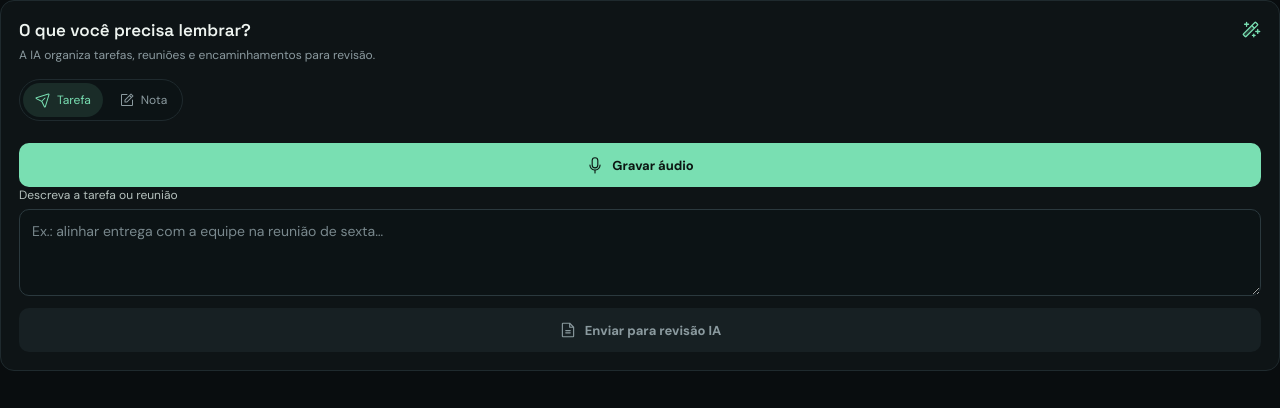
it: TodayCapture audio › não oferece gravação IA no modo Nota privada
Click the button "Nota": (143, 100) x1=107 y1=83 x2=179 y2=117
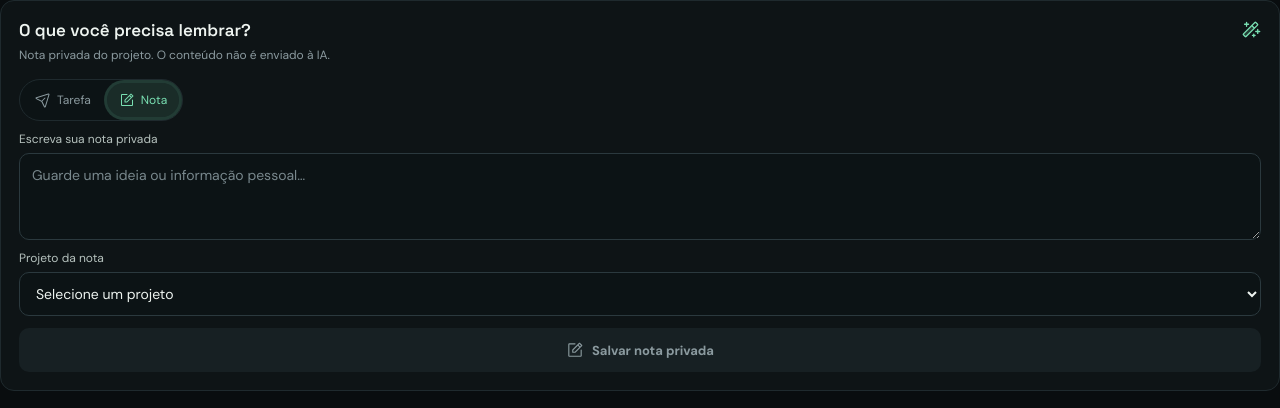
Now the button "Gravar áudio" is gone
